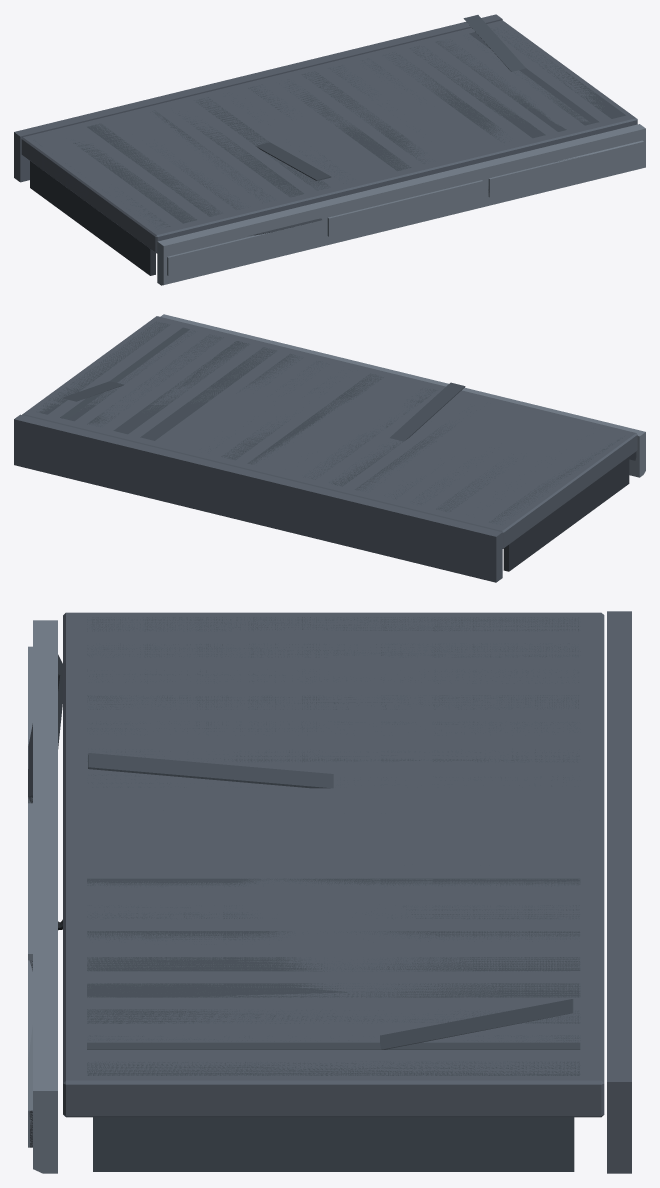
The model's file is shr_cmp_generic_platform_composite_b.glb.
3 renders of one model, top to bottom at view 1: azimuth 30°, elevation 25°; view 2: azimuth 150°, elevation 25°; view 3: azimuth 270°, elevation 25°, orthographic. The views are drawn at different scales.
Parts seen in each view (by area): view 1: mesh_heavy, mesh_light, mesh_intact; view 2: mesh_heavy, mesh_light, mesh_intact; view 3: mesh_heavy, mesh_light, mesh_intact.
Boxes of the visible parts, x1=… form: mesh_heavy: x1=14, y1=14, x2=645, y2=285; mesh_light: x1=21, y1=21, x2=643, y2=240; mesh_intact: x1=157, y1=21, x2=645, y2=284; mesh_heavy: x1=14, y1=314, x2=645, y2=582; mesh_light: x1=24, y1=316, x2=624, y2=547; mesh_intact: x1=24, y1=314, x2=645, y2=491; mesh_heavy: x1=28, y1=611, x2=631, y2=1173; mesh_light: x1=28, y1=612, x2=604, y2=1140; mesh_intact: x1=28, y1=613, x2=600, y2=1173.
Bounding box in the file's own units: 2.2 × 0.28 × 1.19.
